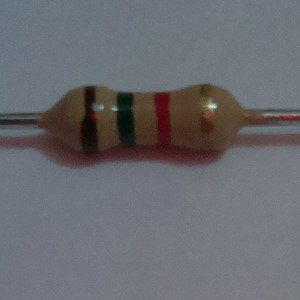brown_band: (77, 83, 100, 155)
gold_band: (198, 81, 216, 154)
green_band: (114, 90, 136, 148)
red_band: (152, 88, 173, 152)
